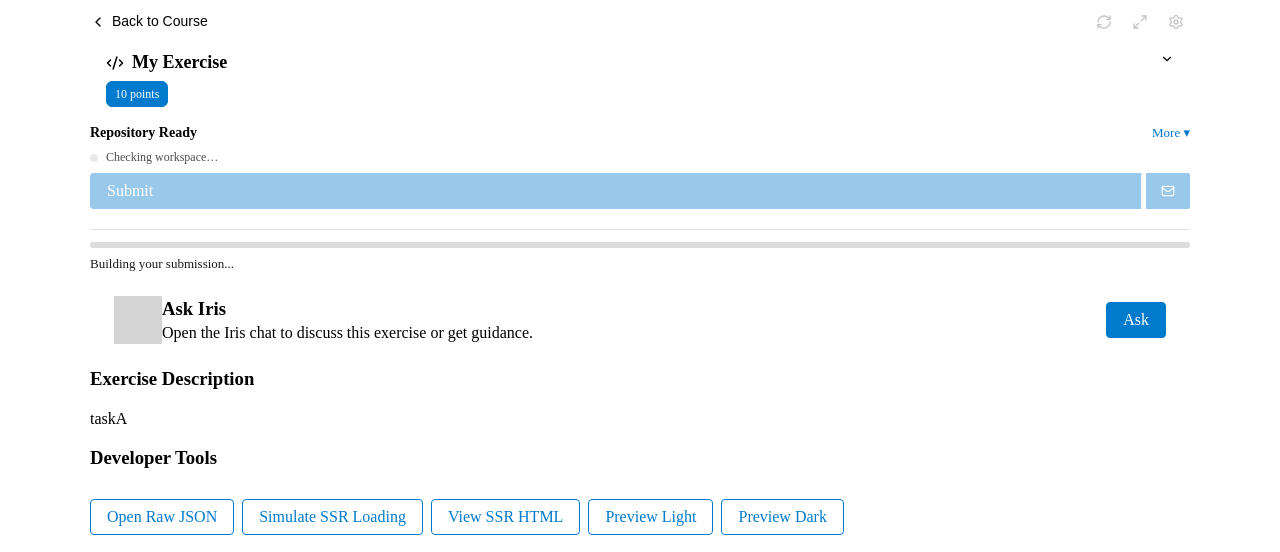
Test: ExerciseDetailView › task overlay shows the previous result plus the rebuild banner while a build is running
Click the text with class "artemis-task" at coordinates (109, 418), box top-left (90, 410), bottom-right (127, 427)
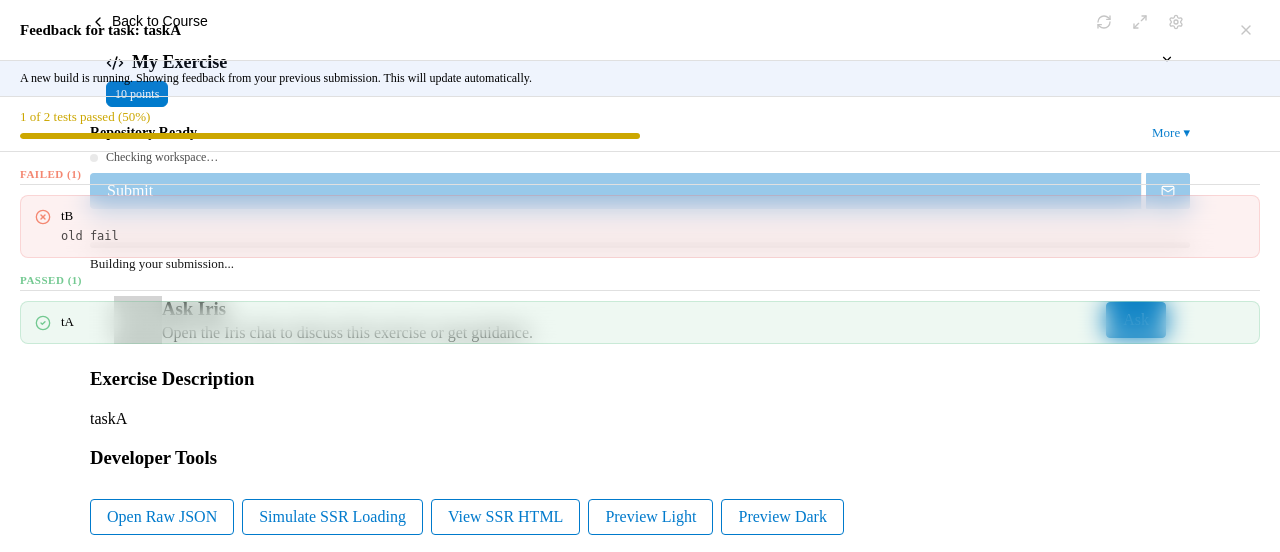
Expected: the text "Failed (1)" is shown, top-left (20, 168), bottom-right (1260, 185)
Expected: the text "Passed (1)" is shown, top-left (20, 266), bottom-right (1260, 291)
Expected: the text "A new build is running" is shown, top-left (20, 71), bottom-right (532, 85)
